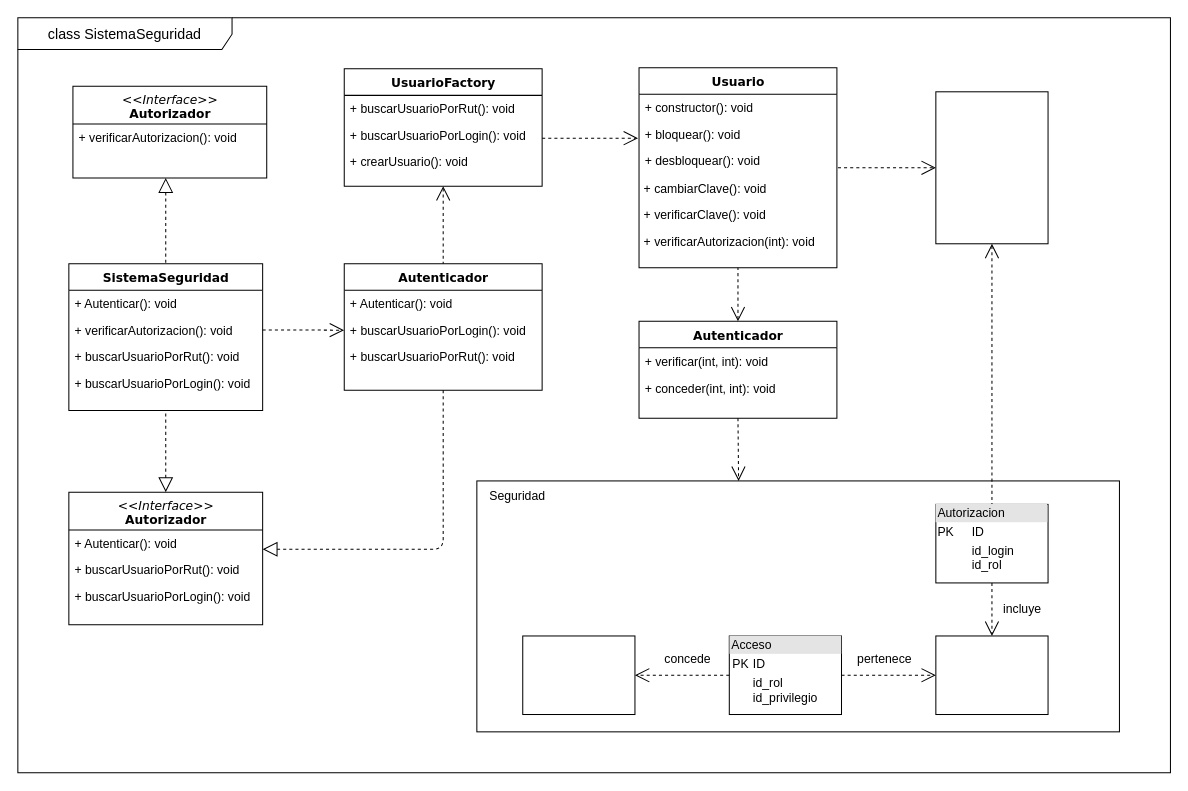
Image size: 1188x791. Some labels were removed from this diagram. The shapes that lost their labels are listed below. From the top down, each one's centre as x and y in pixels, then its label:
At point 991,167: "Usuario PK ID login clave estado rut nombre email telefono".
At point 578,675: "Privilegio PK ID privilegio descripcion".
At point 991,675: "Rol PK ID rol descripcion".
